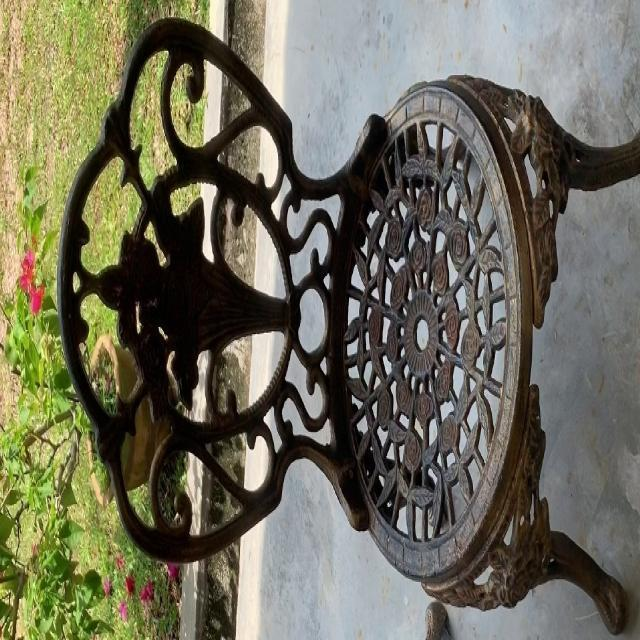chair: (53, 12, 639, 640)
